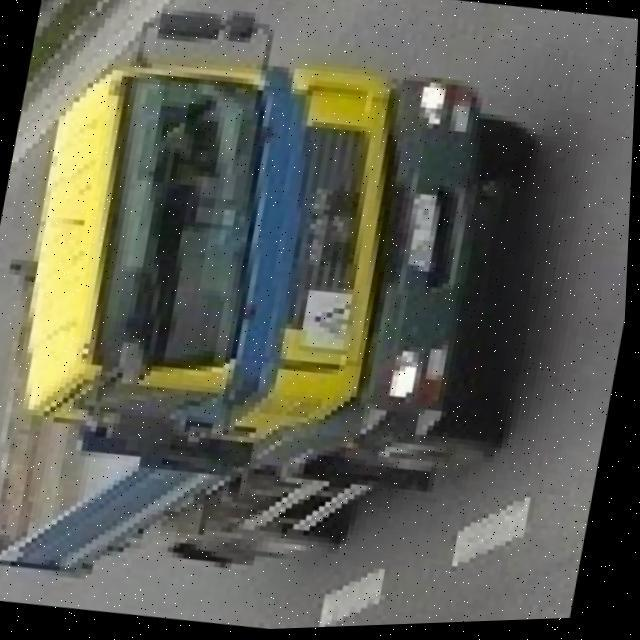truck: (0, 0, 555, 628)
